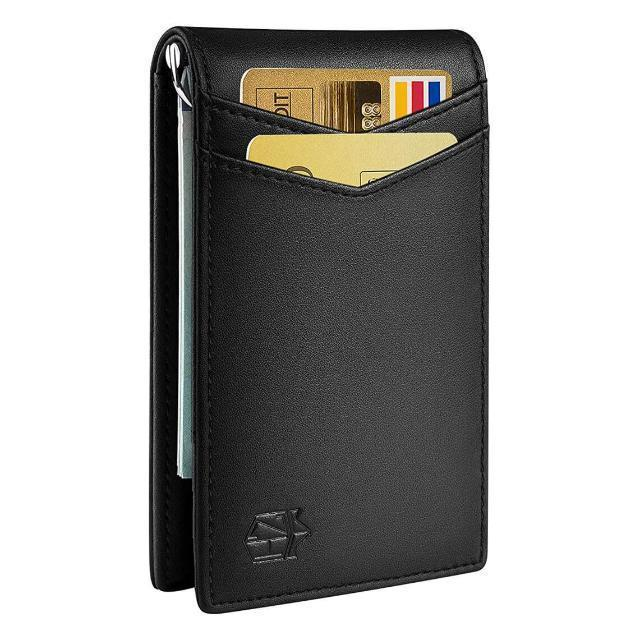wallet: (132, 19, 494, 621)
